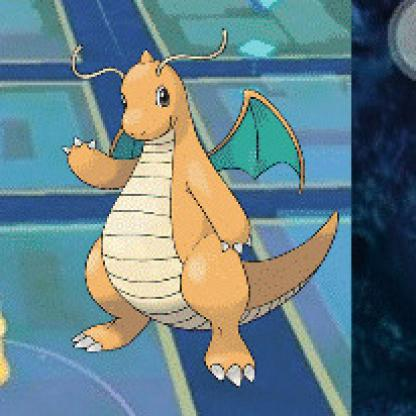Dragonite: (54, 41, 347, 390)
